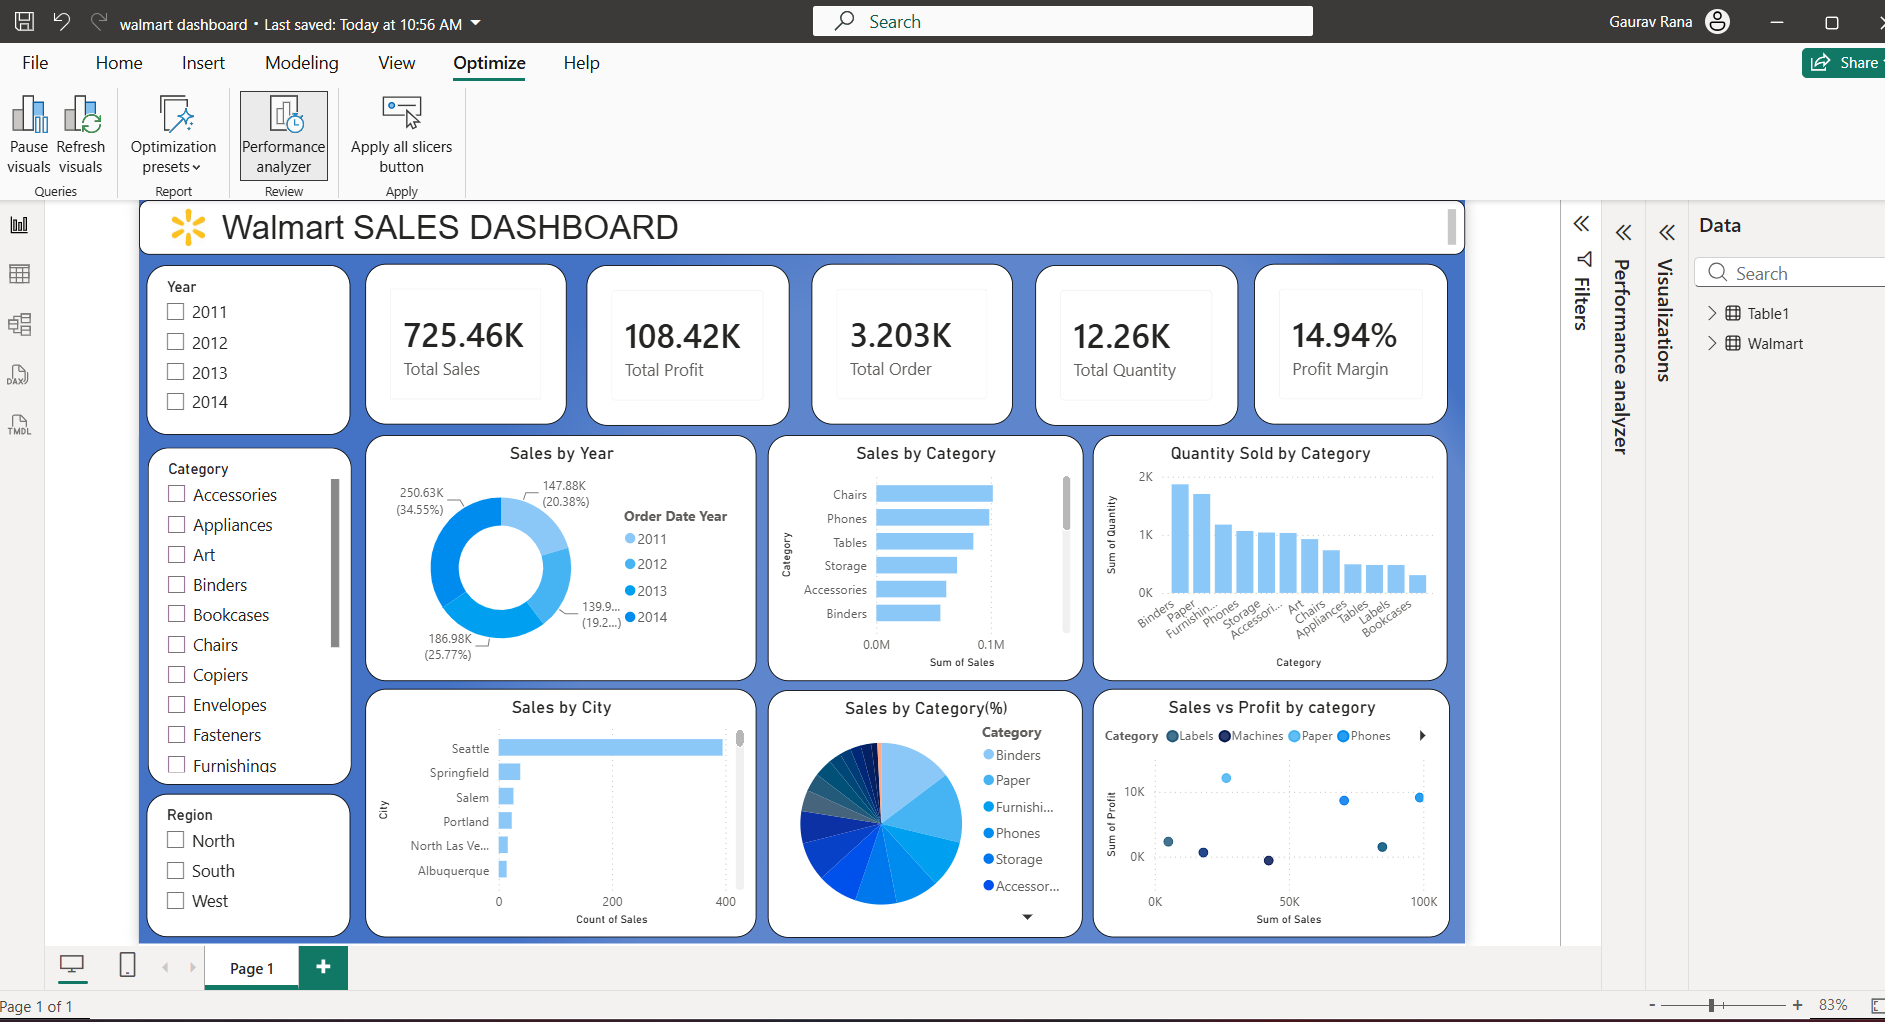

The page's visual inventory and layout, read from the dashboard file:
{"tool":"powerbi","page":{"name":"Page 1","canvas":[1280,720],"ordinal":0},"visuals":[{"type":"slicer","fields":{"Values":["Walmart.Order Date.Variation.Date Hierarchy.Year"]},"box":[7.2,62.7,196.6,164.1],"z":0},{"type":"slicer","fields":{"Values":["Walmart.Category"]},"box":[8.4,238.9,196.6,325.7],"z":1000},{"type":"slicer","fields":{"Values":["Table1.Region"]},"box":[7.2,573.1,196.6,138.7],"z":2000},{"type":"cardVisual","title":"Total Sales","fields":{"Data":["Walmart.Total Sales"]},"box":[218.9,61.1,194.4,155.3],"z":3000},{"type":"cardVisual","fields":{"Data":["CountNonNull(Walmart.Order ID)"]},"box":[649.3,61.1,194.4,155.3],"z":4000},{"type":"cardVisual","fields":{"Data":["Sum(Walmart.Quantity)"]},"box":[864.5,62.4,195.7,155.3],"z":5000},{"type":"cardVisual","fields":{"Data":["Walmart.Profit Margin %"]},"box":[1076.1,61.1,187.1,155.3],"z":6000},{"type":"cardVisual","fields":{"Data":["Walmart.Total Profit"]},"box":[431.7,62.4,195.7,155.3],"z":7000},{"type":"scatterChart","title":"Sales vs Profit by category","fields":{"X":["Sum(Walmart.Sales)"],"Y":["Sum(Walmart.Profit)"],"Series":["Walmart.Category"]},"box":[920.5,471.7,345,240.1],"z":8000},{"type":"donutChart","title":"Sales by Year","fields":{"Category":["Walmart.Order Date.Variation.Date Hierarchy.Year"],"Y":["Sum(Walmart.Sales)"]},"box":[218.9,226.2,377.9,237.2],"z":9000},{"type":"clusteredBarChart","title":"Sales by Category","fields":{"Category":["Walmart.Category"],"Y":["Sum(Walmart.Sales)"]},"box":[606.5,226.2,304.5,237.2],"z":10000},{"type":"clusteredColumnChart","title":"Quantity Sold by Category","fields":{"Y":["Sum(Walmart.Quantity)"],"Category":["Walmart.Category"]},"box":[920.8,226.2,342.4,237.2],"z":11000},{"type":"clusteredBarChart","title":"Sales by City","fields":{"Y":["Count(Walmart.Sales)"],"Category":["Walmart.City"]},"box":[218.4,471.7,377.6,240.1],"z":12000},{"type":"pieChart","title":"Sales by Category(%)","fields":{"Category":["Walmart.Category"],"Y":["CountNonNull(Walmart.Sales)"]},"box":[606.8,472.9,304,238.9],"z":13000},{"type":"textbox","box":[0,0,1280,53.1],"z":14000},{"type":"image","box":[20.5,8.4,54.3,36.2],"z":15000}]}

Visuals, with their boxes on the page's 1280x720 design canvas (x1, y1, x2, y2). These are canvas units, not pixel positions in the 1885x1022 screenshot, which may show the page scaled, cropped or inside an application window:
slicer - Walmart.Order Date.Variation.Date Hierarchy.Year: Rect(7, 63, 204, 227)
slicer - Walmart.Category: Rect(8, 239, 205, 565)
slicer - Table1.Region: Rect(7, 573, 204, 712)
"Total Sales" cardVisual: Rect(219, 61, 413, 216)
cardVisual - CountNonNull(Walmart.Order ID): Rect(649, 61, 844, 216)
cardVisual - Sum(Walmart.Quantity): Rect(864, 62, 1060, 218)
cardVisual - Walmart.Profit Margin %: Rect(1076, 61, 1263, 216)
cardVisual - Walmart.Total Profit: Rect(432, 62, 627, 218)
"Sales vs Profit by category" scatterChart: Rect(920, 472, 1266, 712)
"Sales by Year" donutChart: Rect(219, 226, 597, 463)
"Sales by Category" clusteredBarChart: Rect(606, 226, 911, 463)
"Quantity Sold by Category" clusteredColumnChart: Rect(921, 226, 1263, 463)
"Sales by City" clusteredBarChart: Rect(218, 472, 596, 712)
"Sales by Category(%)" pieChart: Rect(607, 473, 911, 712)
textbox: Rect(0, 0, 1280, 53)
image: Rect(20, 8, 75, 45)
